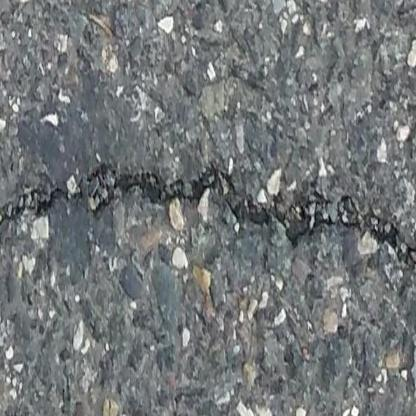Cracks: (0, 161, 416, 307)
